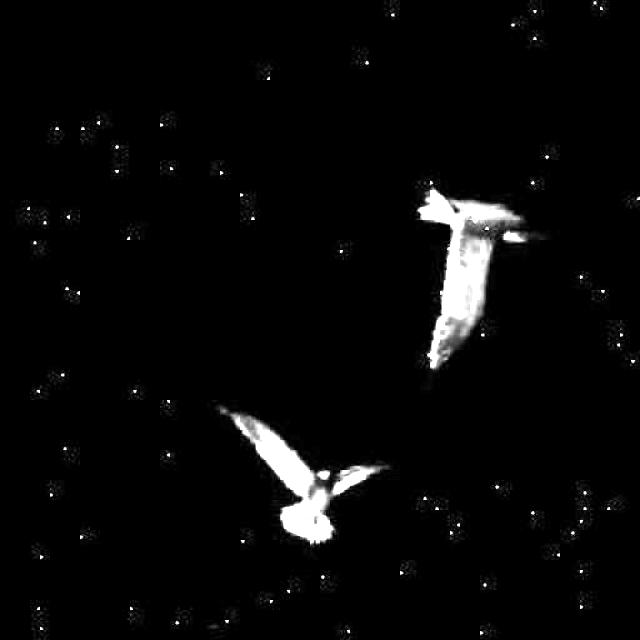airplane: (389, 169, 568, 422), (199, 360, 402, 570)
